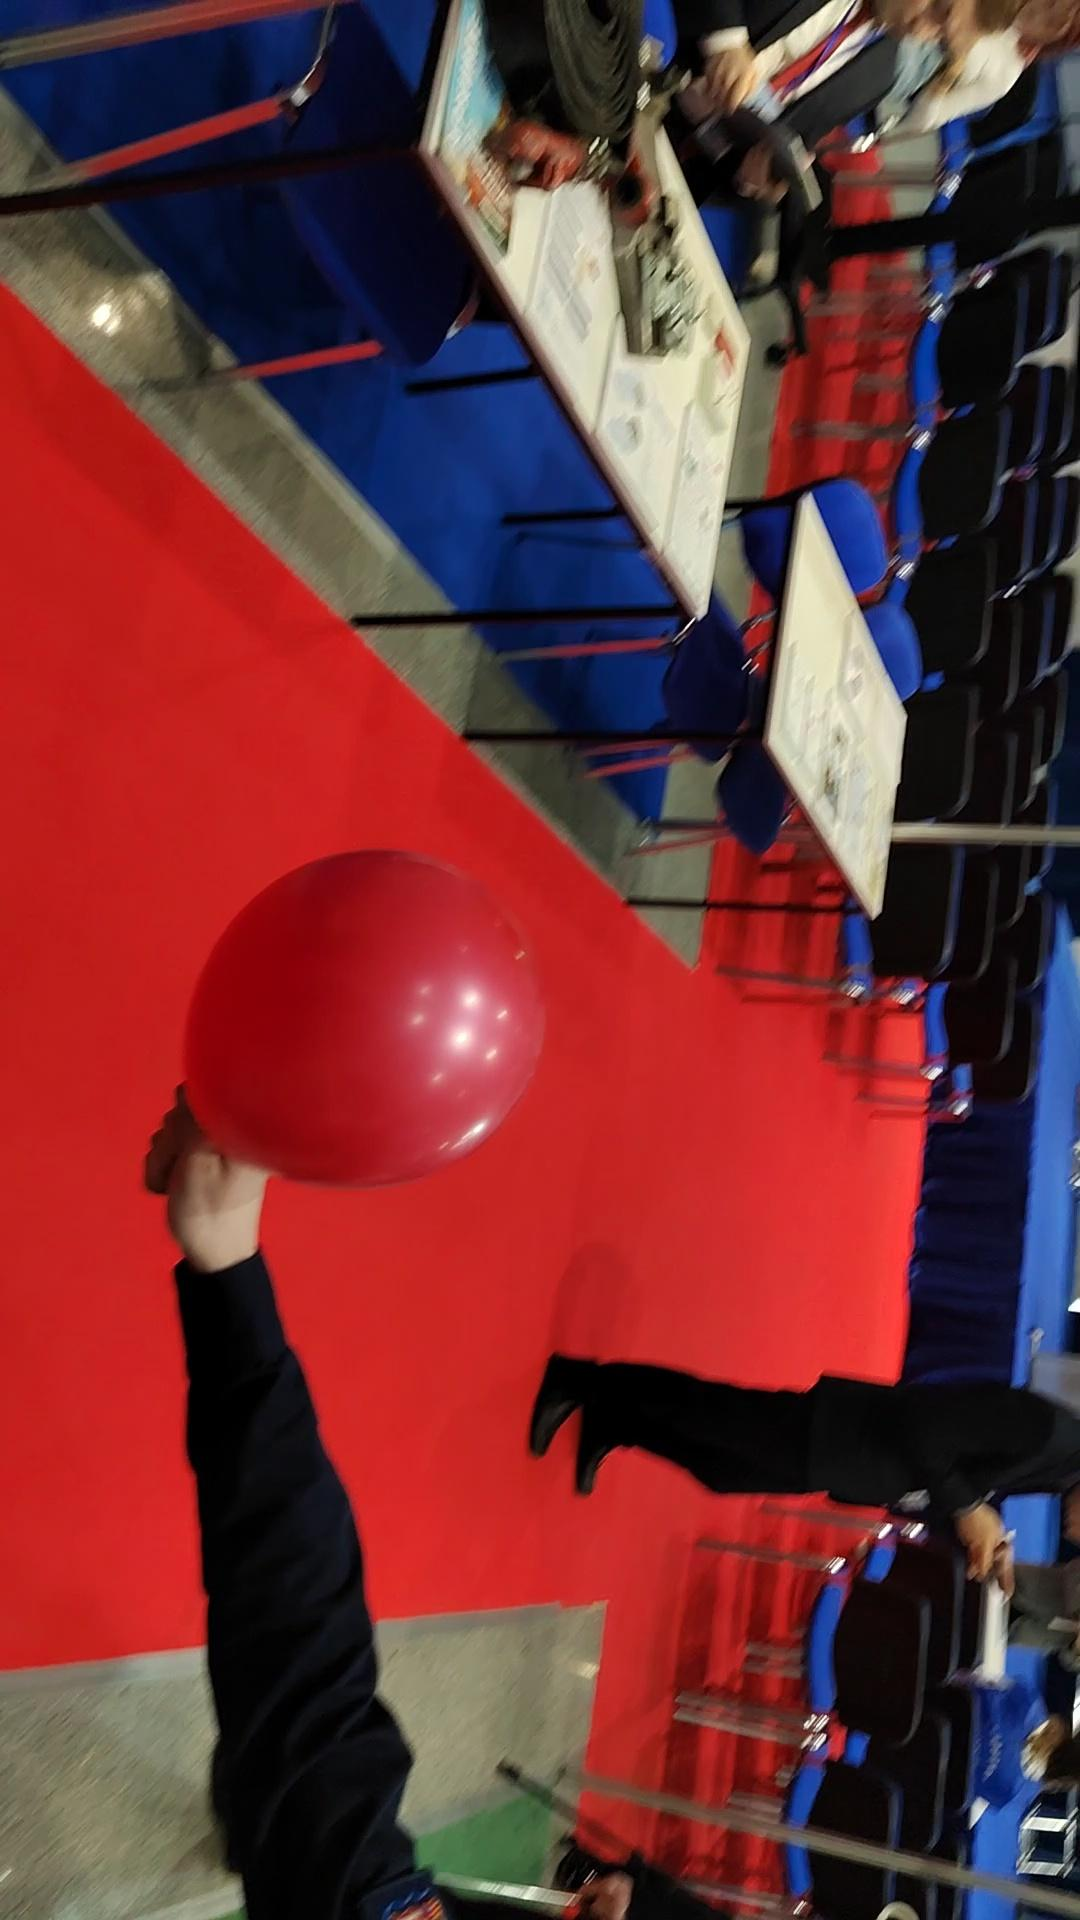red: (164, 831, 560, 1195)
